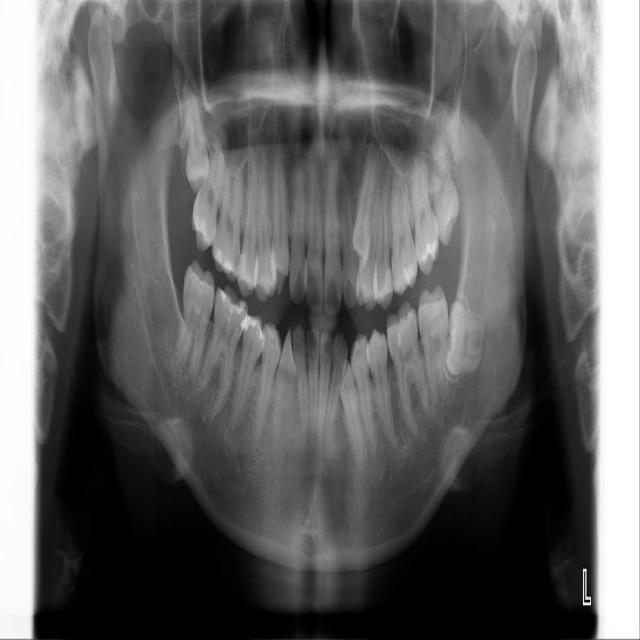3M ESPE Implant: (185, 89, 211, 193)
52: (238, 313, 257, 332), (233, 298, 246, 315), (257, 322, 265, 342), (220, 287, 229, 301), (396, 331, 402, 347), (397, 333, 402, 347)
73: (562, 584, 572, 610)
BioHorizons Implant: (407, 156, 442, 276)
BioLife Implant: (424, 134, 464, 246)
Biomet 3i Implant: (445, 299, 484, 374)
Blue Sky Bio Implant: (417, 284, 450, 406)
Caries: (187, 149, 228, 253)
Implant: (174, 258, 218, 377)
